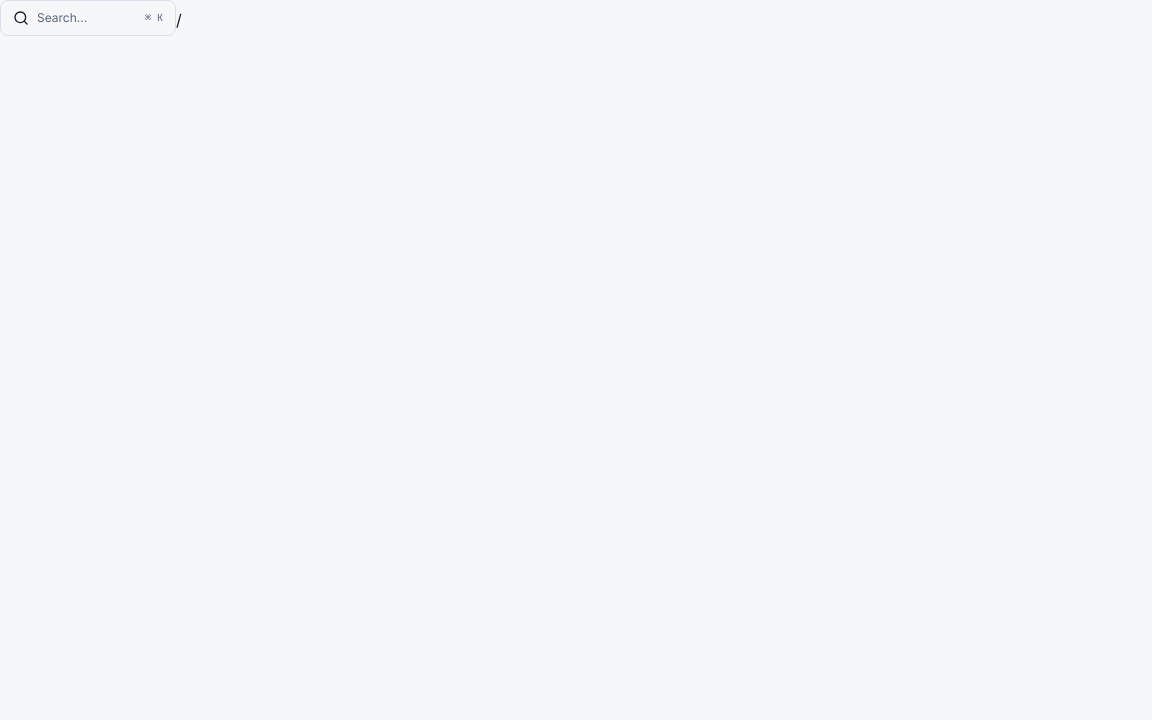
Scenario: accessible global search › opens with Ctrl+K and finds equipment by a name, not only its command value
The width and height of the screenshot is (1152, 720).
Type keys "{Control>}k{/Control}"
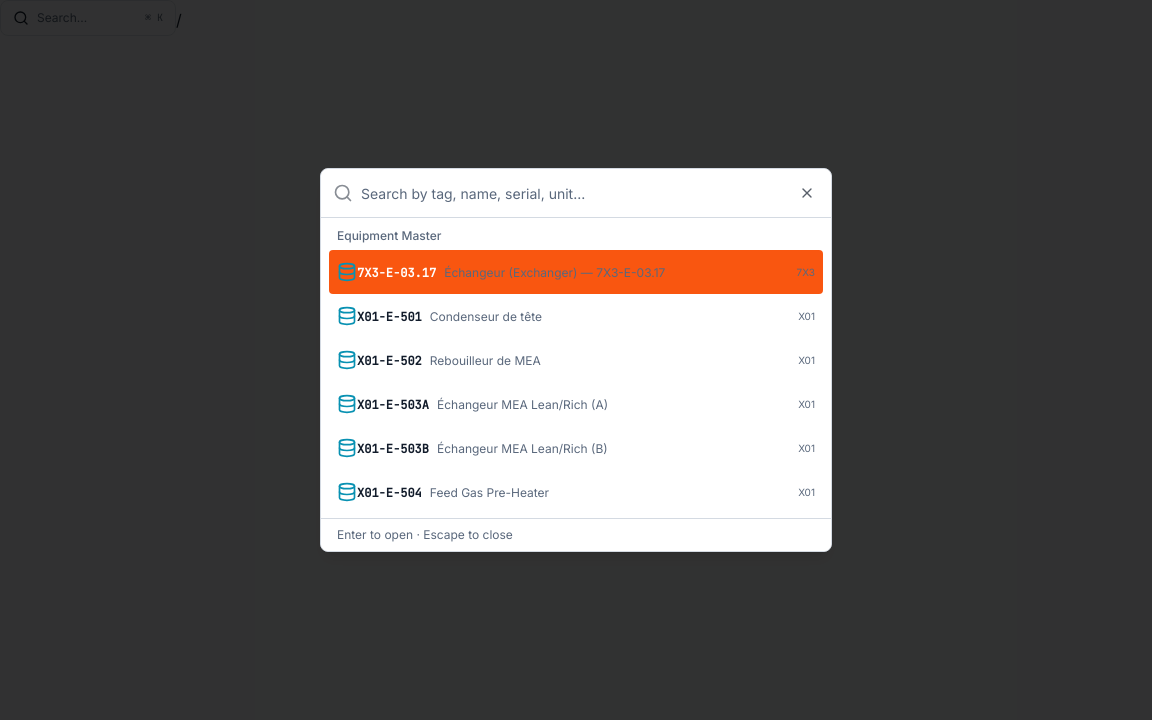
Result: the dialog named "Search workspace" is shown at [320,168,832,552]
Type "Condenseur" into the dropdown. click: (590, 193)
box: [361,169,819,217]
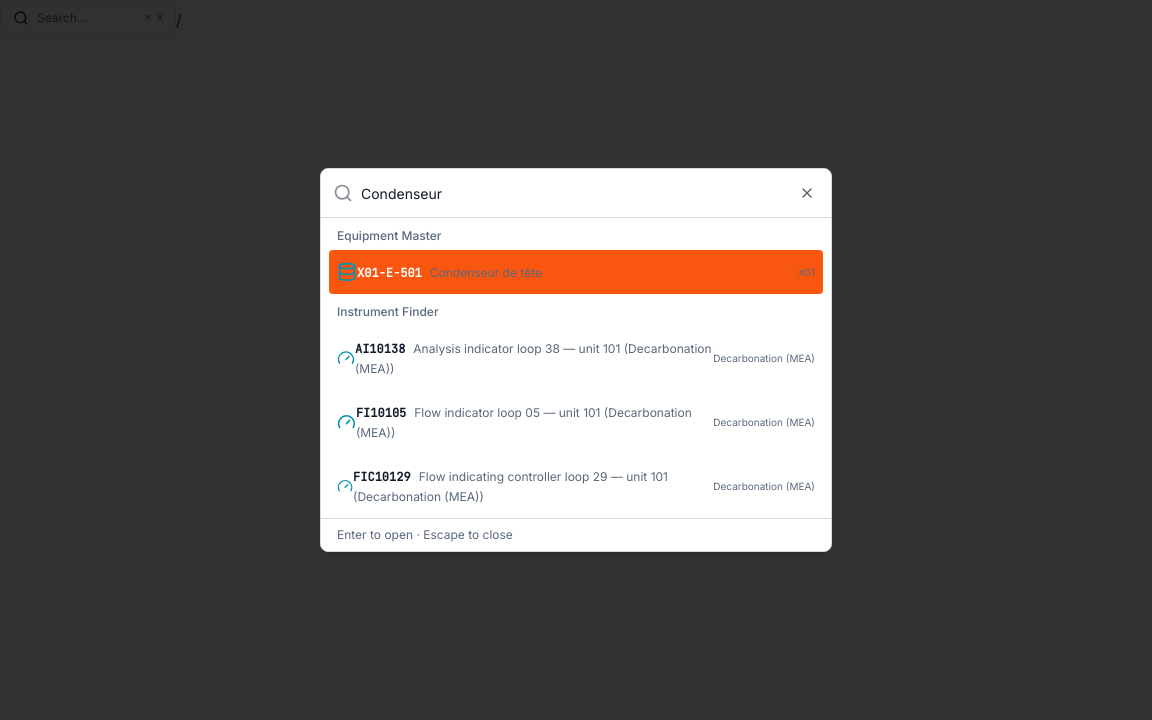
Click the option "X01-E-501Condenseur de tête X01". click: (389, 273)
box: [329,250,823,294]
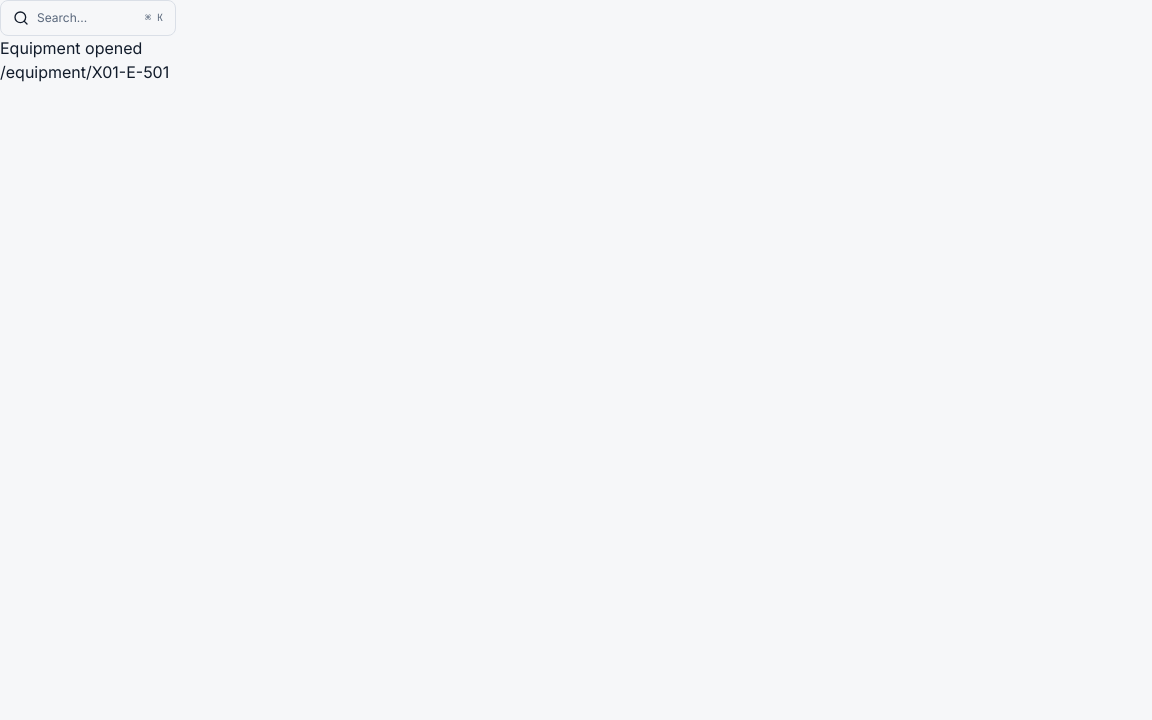
Result: the text "Equipment opened" is shown at [0,38,142,58]
Result: the text named "Current URL" reads "/equipment/X01-E-501" at [0,62,169,82]
